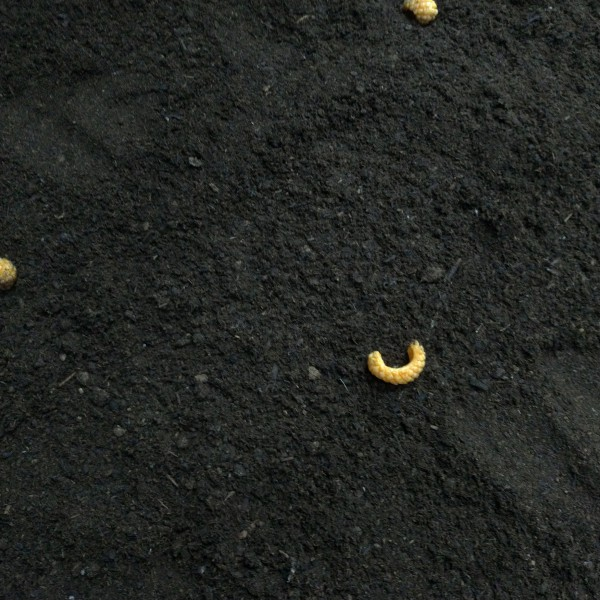eggs: (359, 334, 439, 390), (1, 256, 25, 302), (405, 1, 441, 26)
